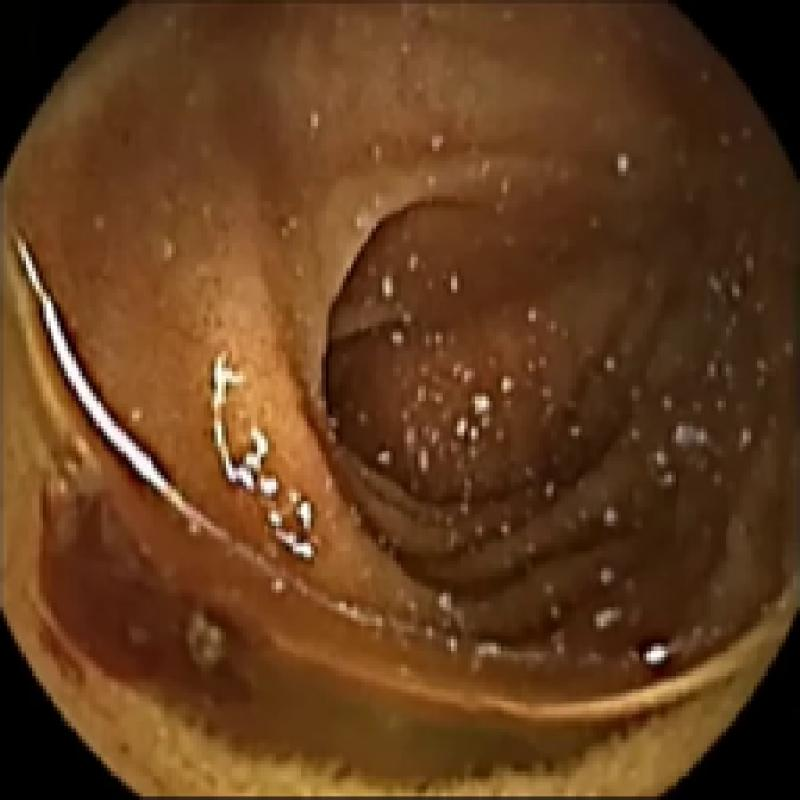bleeding: (25, 475, 243, 714)
